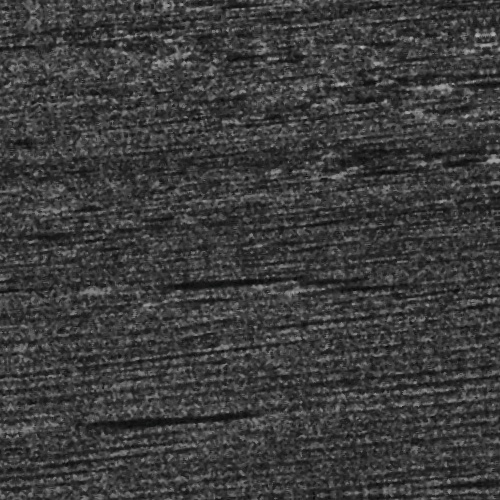object: (435, 92, 476, 101), (0, 409, 37, 416), (326, 176, 357, 179), (104, 276, 125, 279)
shadow: (17, 409, 187, 416), (455, 92, 500, 101), (341, 176, 444, 179), (114, 276, 145, 279)
